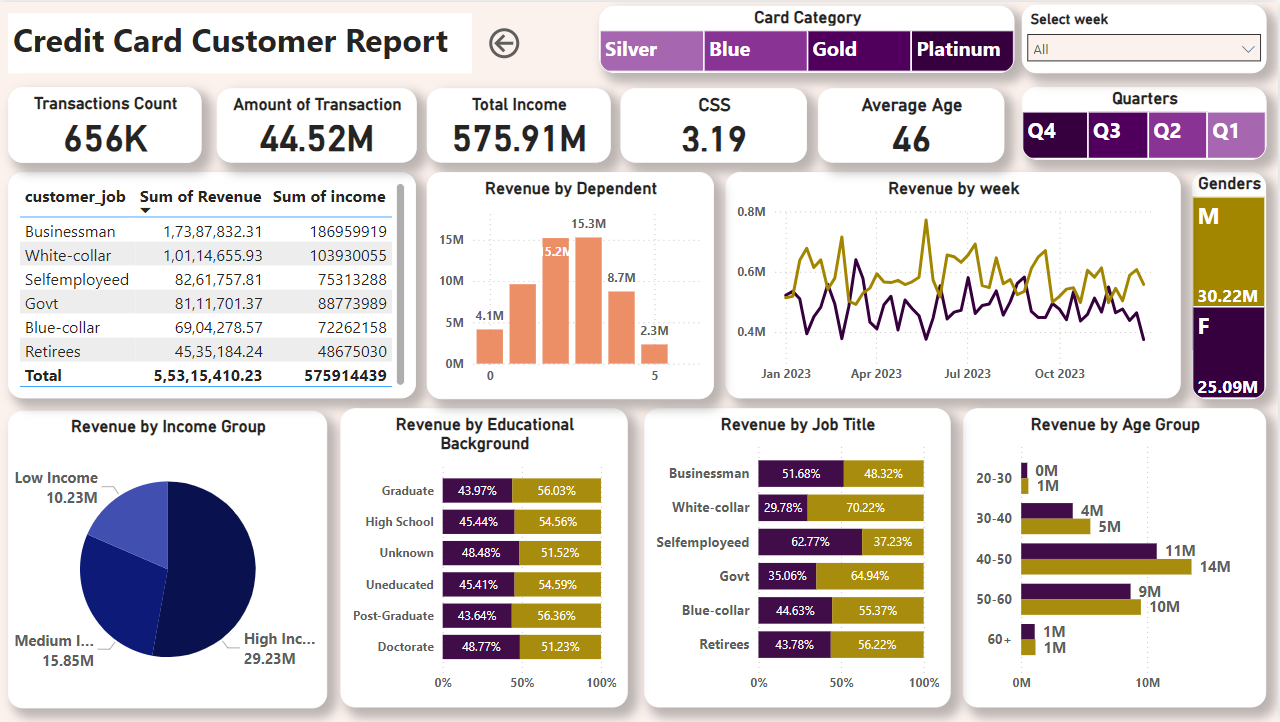

The dashboard page shown, as its layout file describes it:
{"tool":"powerbi","page":{"name":"Credit Card Customer","canvas":[1280,720],"ordinal":1},"visuals":[{"type":"treemap","title":"Genders","fields":{"Group":["public cust_detail.gender"],"Values":["Sum(public cc_detail.Revenue)"]},"box":[1194.3,170.6,74.4,227.5],"z":0},{"type":"treemap","title":"Card Category","fields":{"Values":["Avg(public cust_detail.client_num)"],"Group":["public cc_detail.card_category"]},"box":[600.8,4.4,415.6,67.1],"z":1000},{"type":"treemap","title":"Quarters","fields":{"Values":["Avg(public cust_detail.client_num)"],"Group":["public cc_detail.qtr"]},"box":[1023.7,84.6,245,72.9],"z":2000},{"type":"pieChart","title":"Revenue by Income Group","fields":{"Category":["public cust_detail.IncomeGroup"],"Y":["Sum(public cc_detail.Revenue)"]},"box":[10.2,408.3,319.3,297.5],"z":3000},{"type":"tableEx","fields":{"Values":["public cust_detail.customer_job","Sum(public cc_detail.Revenue)","Sum(public cust_detail.income)"]},"box":[10.2,170.6,408.3,226],"z":4000},{"type":"card","title":"Transactions Count","fields":{"Values":["Sum(public cc_detail.total_trans_ct)"]},"box":[10.2,84.6,193.9,75.8],"z":5000},{"type":"card","title":"Amount of Transaction","fields":{"Values":["Sum(public cc_detail.total_trans_amt)"]},"box":[218.7,86,199.8,74.4],"z":6000},{"type":"slicer","fields":{"Values":["public cc_detail.week_start_date"]},"box":[1023.7,2.9,245,68.5],"z":7000},{"type":"textbox","box":[10,11.4,464.3,60],"z":8000},{"type":"card","title":"Total Income","fields":{"Values":["Sum(public cust_detail.income)"]},"box":[428.7,86,183.7,74.4],"z":9000},{"type":"card","title":"CSS","fields":{"Values":["Avg(public cust_detail.cust_satisfaction_score)"]},"box":[622.6,86,186.6,74.4],"z":10000},{"type":"lineChart","title":"Revenue by week","fields":{"Y":["Sum(public cc_detail.Revenue)"],"Category":["public cc_detail.week_start_date.Variation.Date Hierarchy.Year","public cc_detail.week_start_date.Variation.Date Hierarchy.Month","public cc_detail.week_start_date.Variation.Date Hierarchy.Day"],"Series":["public cust_detail.gender"]},"box":[727.6,170.6,455,226],"z":11000},{"type":"clusteredBarChart","title":"Revenue by Age Group","fields":{"Y":["Sum(public cc_detail.Revenue)"],"Category":["public cust_detail.AgeGroup"],"Series":["public cust_detail.gender"]},"box":[965.3,406.8,303.3,298.9],"z":12000},{"type":"hundredPercentStackedBarChart","title":"Revenue by Job Title","fields":{"Category":["public cust_detail.customer_job"],"Y":["Sum(public cc_detail.Revenue)"],"Series":["public cust_detail.gender"]},"box":[646,406.8,306.2,298.9],"z":13000},{"type":"hundredPercentStackedBarChart","title":"Revenue by Educational Background","fields":{"Category":["public cust_detail.education_level"],"Y":["Sum(public cc_detail.Revenue)"],"Series":["public cust_detail.gender"]},"box":[342.7,406.8,287.3,298.9],"z":14000},{"type":"columnChart","title":"Revenue by Dependent","fields":{"Category":["public cust_detail.dependent_count"],"Y":["Sum(public cc_detail.Revenue)"]},"box":[428.7,170.6,287.3,227.5],"z":15000},{"type":"card","title":"Average Age","fields":{"Values":["Avg(public cust_detail.customer_age)"]},"box":[819.5,86,186.6,74.4],"z":15001},{"type":"actionButton","box":[485.7,21.4,100,40],"z":15002}]}

Visuals, with their boxes in screenshot pixels (x1, y1, x2, y2), scaled from the page's 1280x720 canvas onto the 1280x722 screenshot:
"Genders" treemap: (left=1194, top=171, right=1269, bottom=399)
"Card Category" treemap: (left=601, top=4, right=1016, bottom=72)
"Quarters" treemap: (left=1024, top=85, right=1269, bottom=158)
"Revenue by Income Group" pieChart: (left=10, top=409, right=330, bottom=708)
tableEx - public cust_detail.customer_job x Sum(public cc_detail.Revenue): (left=10, top=171, right=418, bottom=398)
"Transactions Count" card: (left=10, top=85, right=204, bottom=161)
"Amount of Transaction" card: (left=219, top=86, right=418, bottom=161)
slicer - public cc_detail.week_start_date: (left=1024, top=3, right=1269, bottom=72)
textbox: (left=10, top=11, right=474, bottom=72)
"Total Income" card: (left=429, top=86, right=612, bottom=161)
"CSS" card: (left=623, top=86, right=809, bottom=161)
"Revenue by week" lineChart: (left=728, top=171, right=1183, bottom=398)
"Revenue by Age Group" clusteredBarChart: (left=965, top=408, right=1269, bottom=708)
"Revenue by Job Title" hundredPercentStackedBarChart: (left=646, top=408, right=952, bottom=708)
"Revenue by Educational Background" hundredPercentStackedBarChart: (left=343, top=408, right=630, bottom=708)
"Revenue by Dependent" columnChart: (left=429, top=171, right=716, bottom=399)
"Average Age" card: (left=820, top=86, right=1006, bottom=161)
actionButton: (left=486, top=21, right=586, bottom=62)
